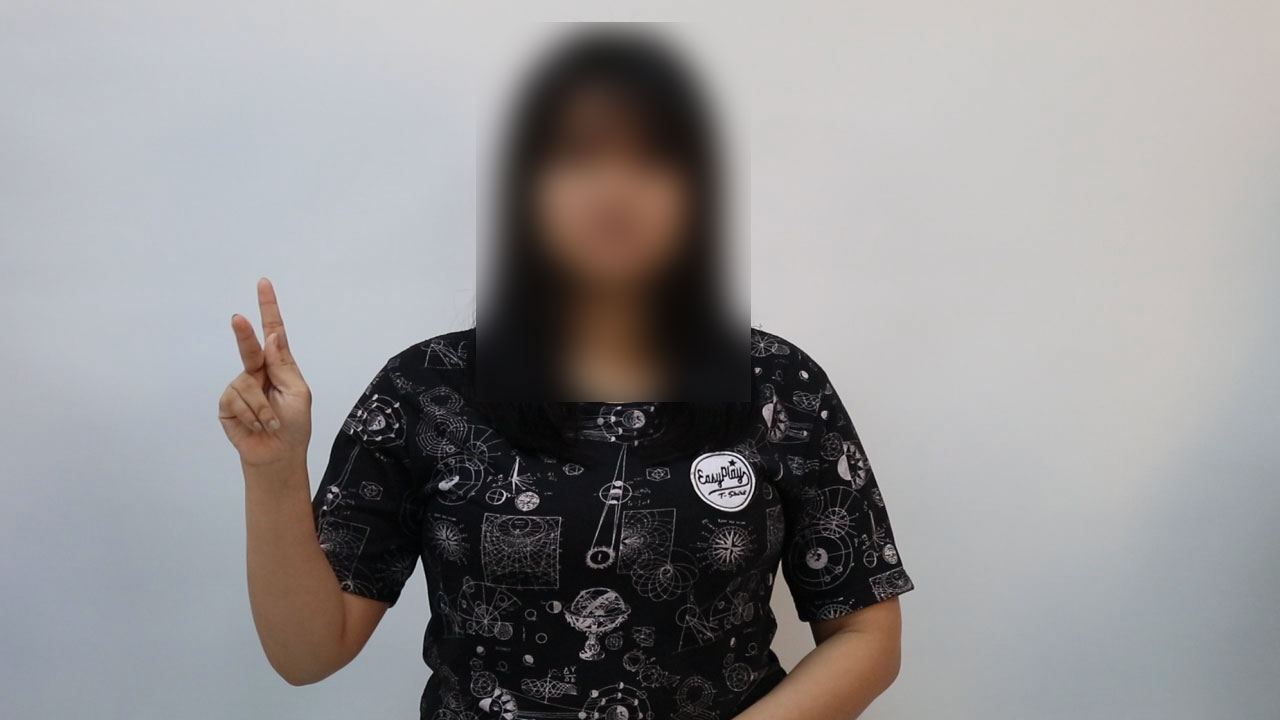ko: (171, 269, 363, 483)
